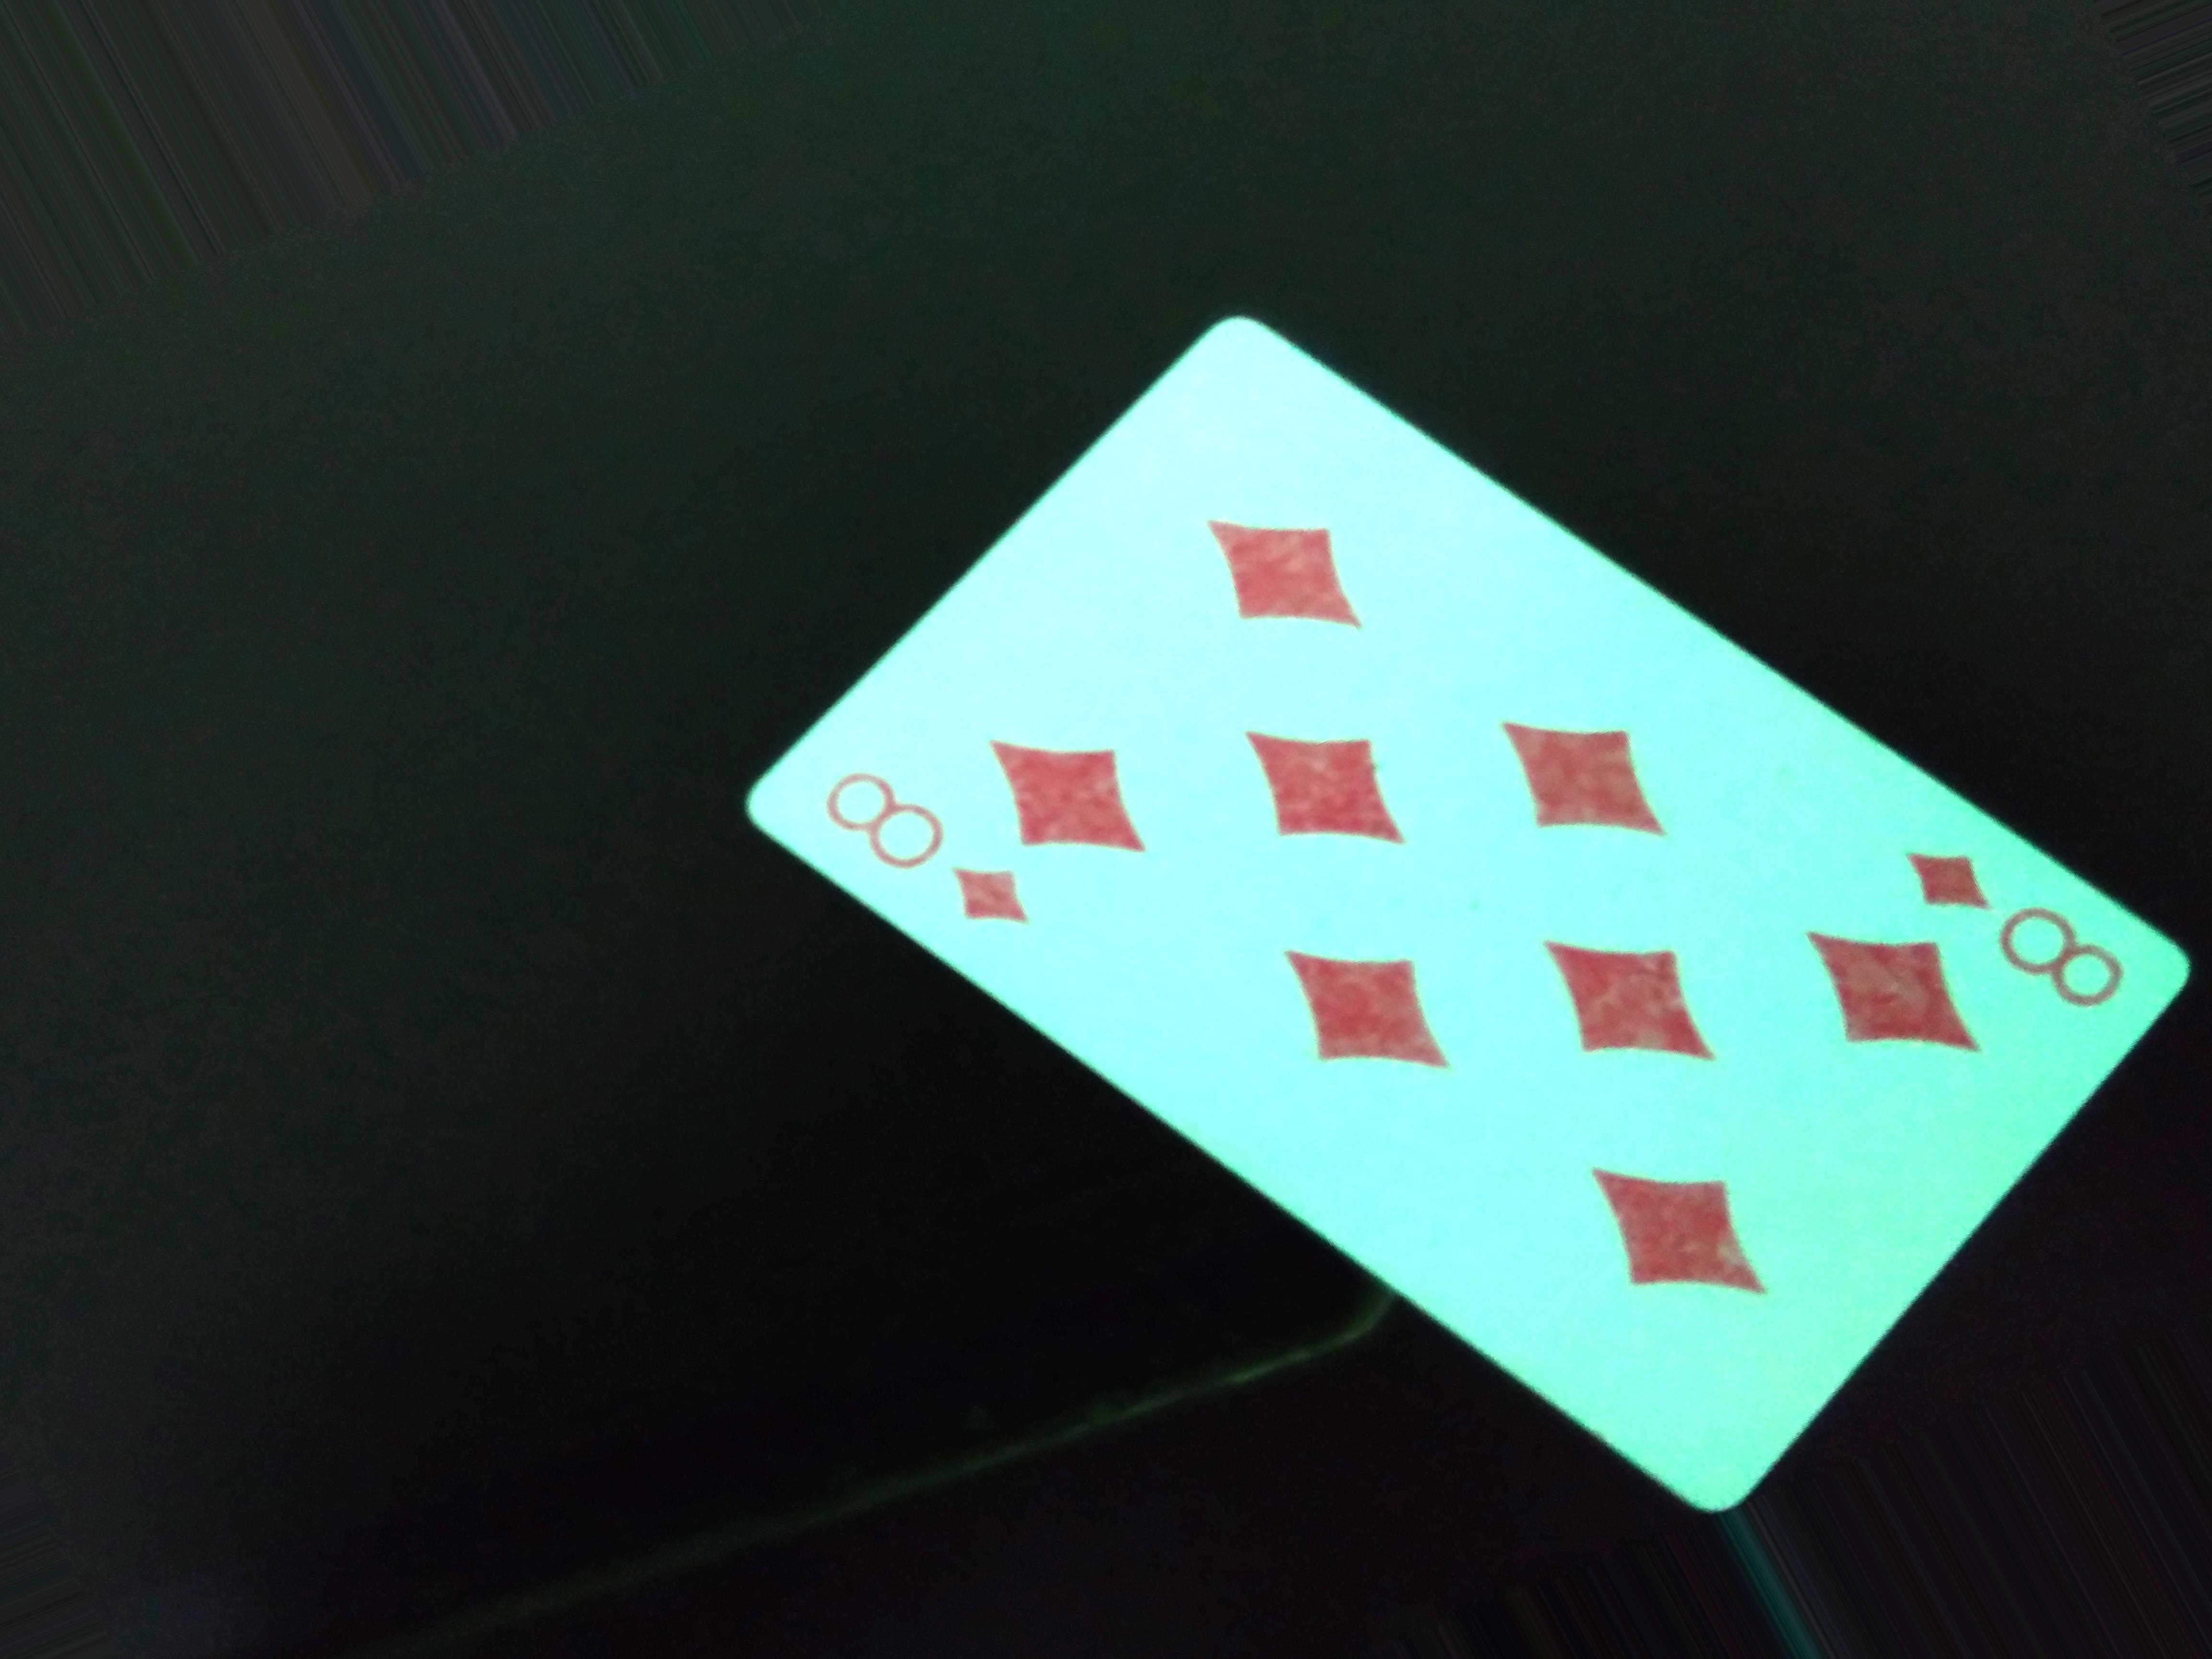8D: (813, 762, 1049, 953)
